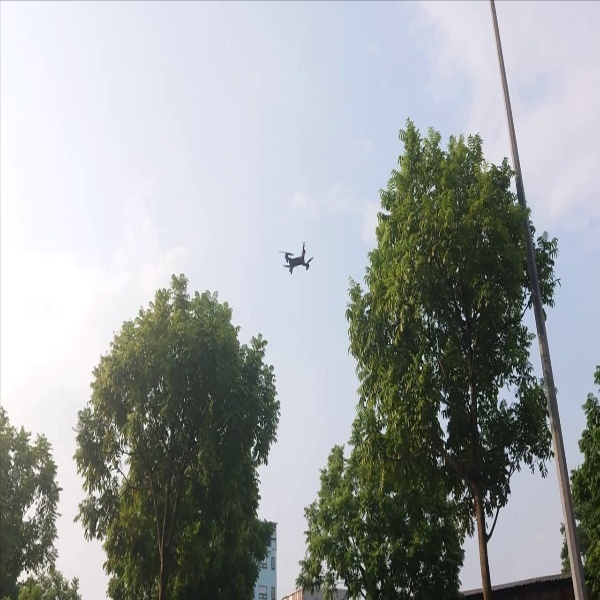drone: (282, 240, 317, 281)
